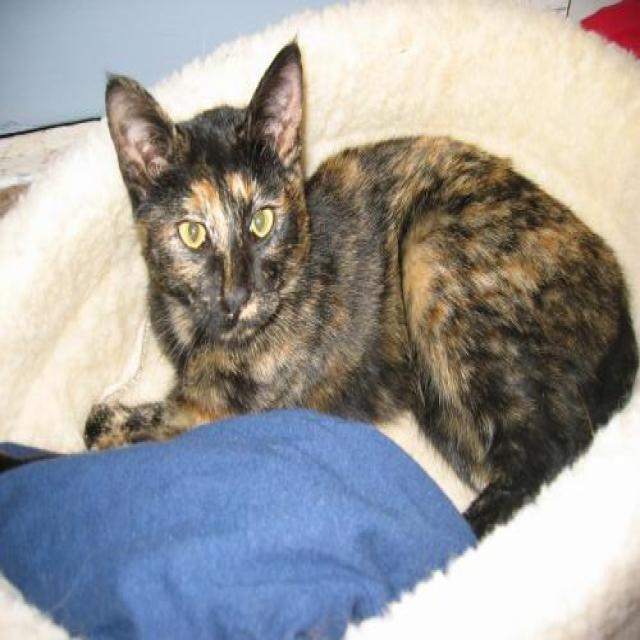cats: (84, 37, 638, 538)
